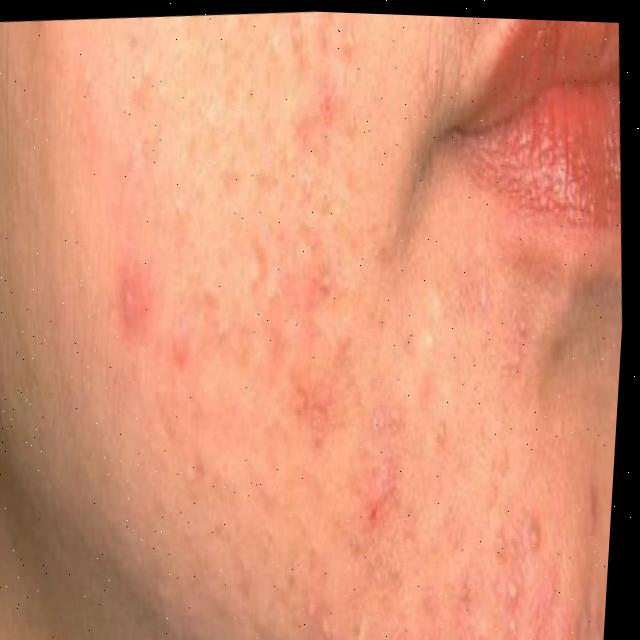Acne: (79, 79, 453, 594)
